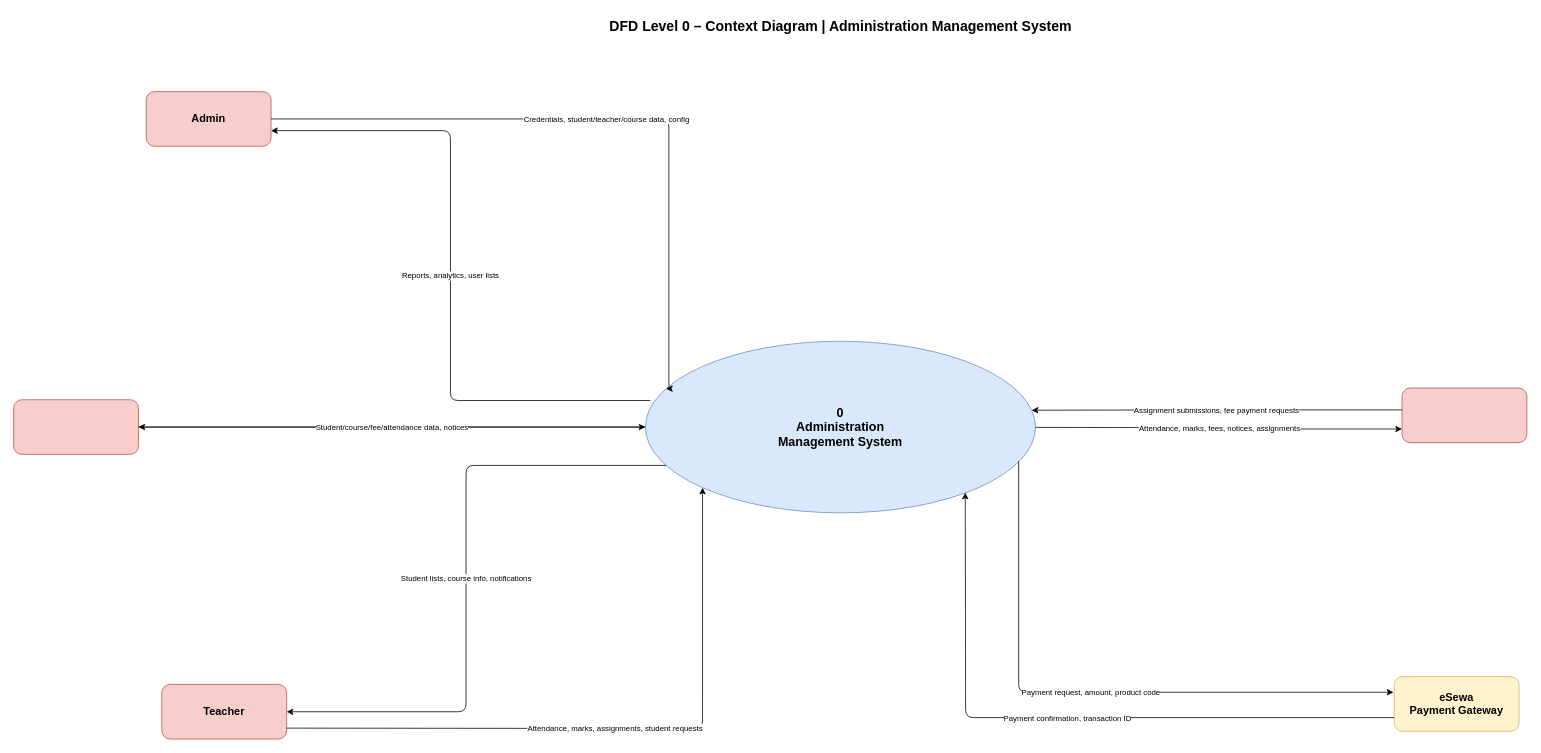
Image size: 1541x753. Some labels were removed from this diagram. The box of each missing label's shape, as (x1, y1, x2, y2) in pixels:
Principal: (13, 399, 138, 454)
Student: (1401, 387, 1527, 443)
